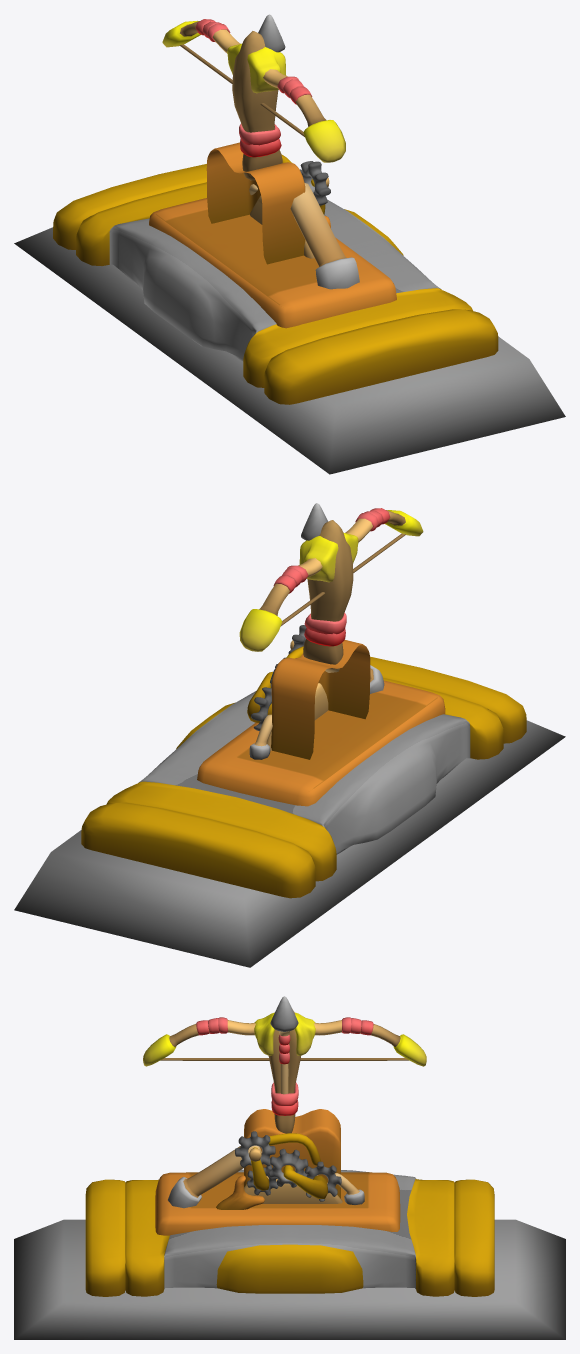
Rendered from Ballista.fbx.
The picture shows the model from 3 angles, top to bottom: view 1: azimuth 30°, elevation 25°; view 2: azimuth 150°, elevation 25°; view 3: azimuth 270°, elevation 25°; orthographic projection. The views are drawn at different scales.
Visible parts, largest first — view 1: Ballista2ndBase, BallistaBase, BallistaFloor, Cube.006, Cube.005, Cube, Cube.004, Cube.001, Gear, Cube.002; view 2: Ballista2ndBase, BallistaBase, BallistaFloor, Cube.006, Cube.005, Cube, Cube.001, Plane.001, Cube.002; view 3: BallistaBase, Ballista2ndBase, BallistaFloor, Cube.005, Cube.006, Cube, Cube.004, Cube.001, Cube.002, Plane, Gear.001, Gear (+5 smaller).
Boxes of the visible parts, <box> form: Ballista2ndBase: <box>53,164,498,404</box>; BallistaBase: <box>14,227,565,474</box>; BallistaFloor: <box>149,198,396,328</box>; Cube.006: <box>206,142,305,264</box>; Cube.005: <box>162,19,345,162</box>; Cube: <box>232,31,282,180</box>; Cube.004: <box>290,183,359,289</box>; Cube.001: <box>227,43,286,93</box>; Gear: <box>300,161,330,205</box>; Cube.002: <box>258,14,285,52</box>; Ballista2ndBase: <box>81,656,526,898</box>; BallistaBase: <box>14,720,565,967</box>; BallistaFloor: <box>197,680,445,806</box>; Cube.006: <box>271,640,370,759</box>; Cube.005: <box>239,508,423,651</box>; Cube: <box>303,520,353,669</box>; Cube.001: <box>299,533,358,582</box>; Plane.001: <box>249,714,272,759</box>; Cube.002: <box>301,503,327,540</box>; BallistaBase: <box>14,1219,565,1339</box>; Ballista2ndBase: <box>85,1169,494,1296</box>; BallistaFloor: <box>155,1172,400,1235</box>; Cube.005: <box>143,1017,426,1066</box>; Cube.006: <box>244,1109,340,1198</box>; Cube: <box>268,1009,300,1133</box>; Cube.004: <box>168,1145,261,1208</box>; Cube.001: <box>254,1012,315,1055</box>; Cube.002: <box>270,996,298,1094</box>; Plane: <box>244,1175,342,1203</box>; Gear.001: <box>268,1148,308,1187</box>; Gear: <box>235,1131,275,1167</box>.
Size of the model in its own units: 102 by 129 by 227.
